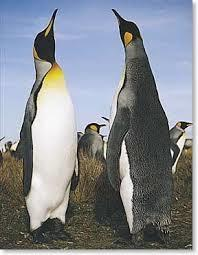king: (89, 3, 180, 255), (11, 5, 92, 250)
